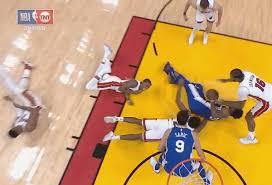fall: (159, 59, 232, 123)
